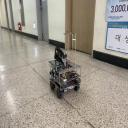cart: (48, 58, 82, 100)
